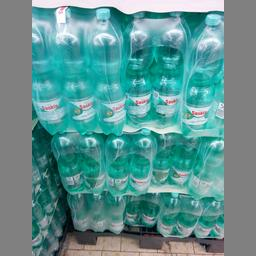water: (46, 6, 96, 132), (82, 7, 126, 136), (178, 12, 223, 132), (152, 12, 187, 124), (120, 10, 152, 127)
